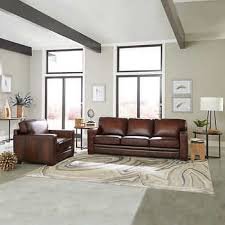Chair: (5, 110, 78, 162)
Lamp: (199, 94, 225, 129)
Sofa: (85, 114, 193, 162)
Table: (194, 126, 224, 161), (75, 127, 94, 151)
